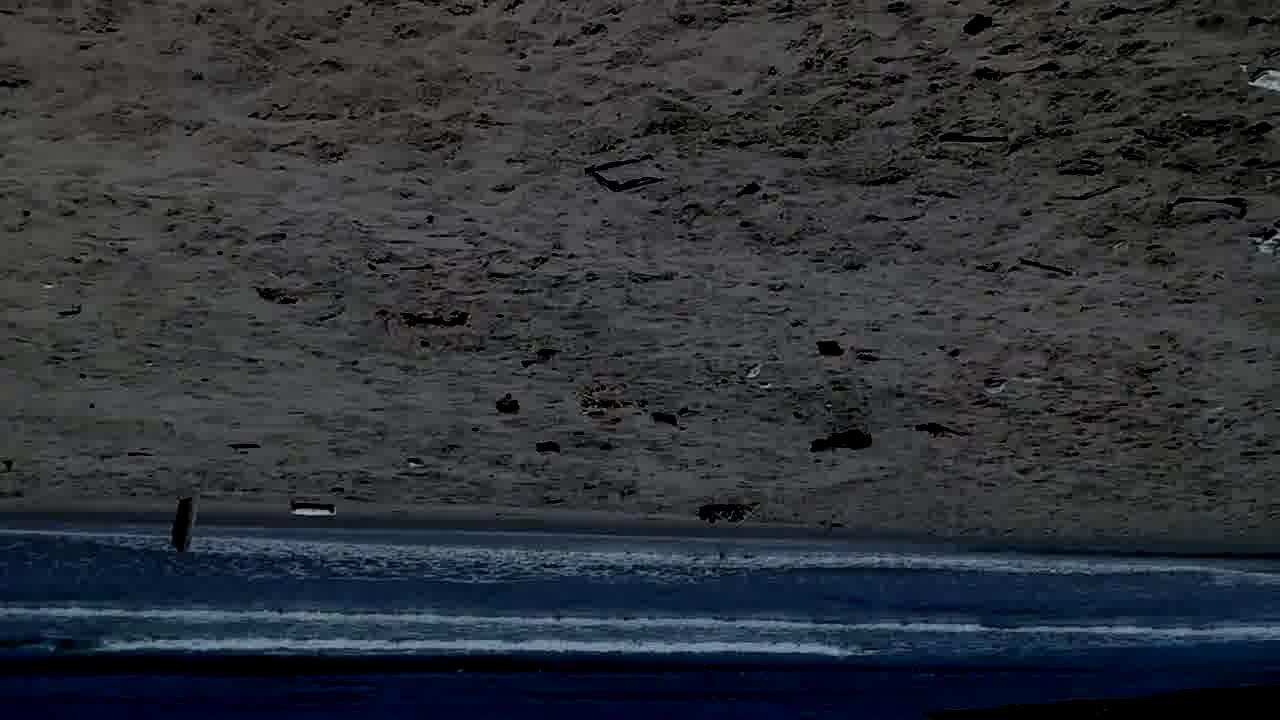obj: (172, 494, 202, 552), (810, 430, 872, 453), (694, 504, 756, 522), (1249, 219, 1279, 256), (939, 131, 1009, 145), (1248, 69, 1279, 94), (964, 15, 991, 36), (652, 415, 684, 432), (296, 502, 336, 515), (817, 340, 841, 358), (495, 398, 519, 415), (540, 440, 562, 456)
sand/background: (0, 496, 1280, 719)
